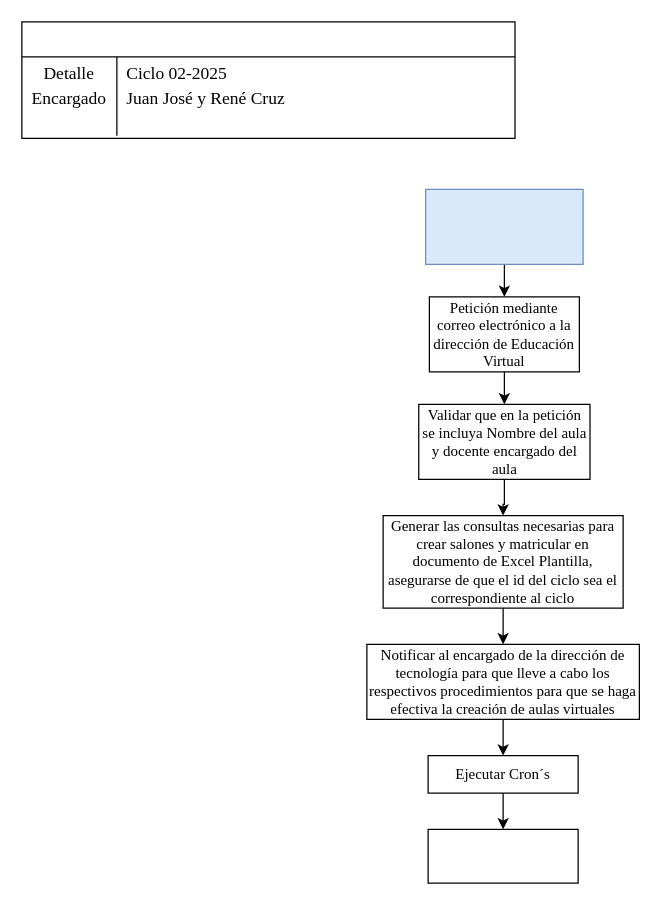
Image size: 661x905. Some labels were removed from this diagram. Here are the shapes that lost their labels. From the top down, the box of each, then its label:
(21, 21, 515, 138): Petición aulas virtual en Moodle y registro de tiempos de navegación
(424, 188, 583, 264): Creación de aulas virtuales Salones de Apoyo
(427, 828, 578, 883): Verificar que el aula y matriculaciones se hayan efectuado
